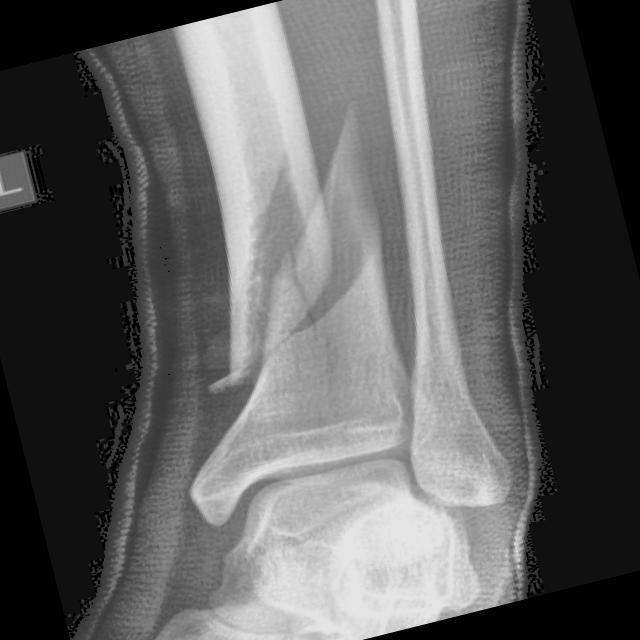Comminuted Fracture: (221, 116, 396, 358)
